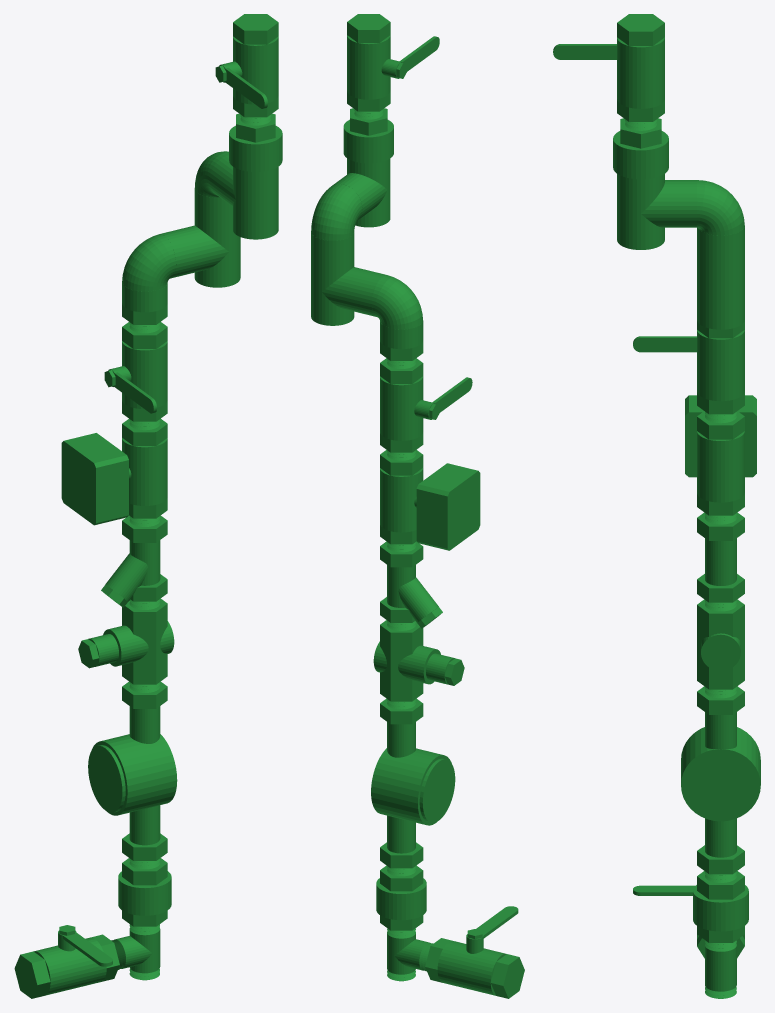
File: patent3.glb
3 renders of one model, left to right at view 1: azimuth 30°, elevation 25°; view 2: azimuth 150°, elevation 25°; view 3: azimuth 270°, elevation 25°, orthographic. The views are drawn at different scales.
Visible parts, largest first — view 1: Fake; view 2: Fake; view 3: Fake.
Boxes of the visible parts, x1,y1,x2,y2 form: Fake: (14,14,282,998); Fake: (311,14,524,998); Fake: (553,14,760,998).
Bounding box in the file's own units: 0.325 × 1.39 × 0.26.
